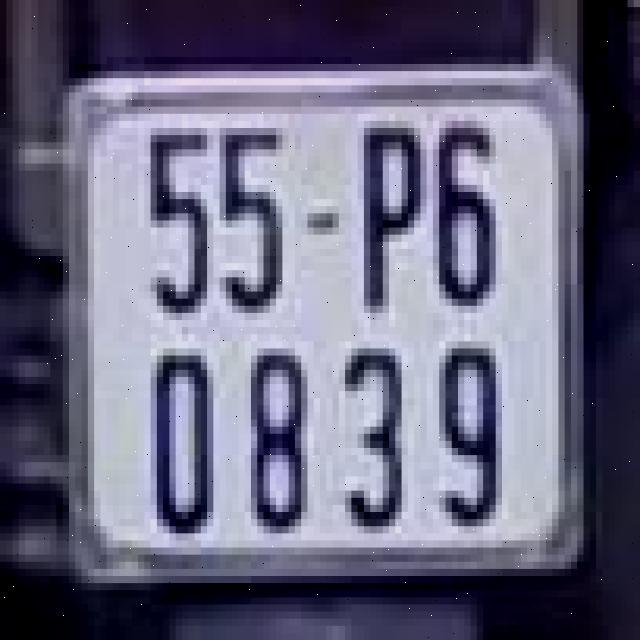0: (138, 338, 220, 537)
5: (132, 125, 213, 316), (223, 121, 292, 327)
6: (436, 100, 505, 320)
8: (232, 345, 314, 537), (336, 338, 411, 544)
9: (433, 338, 502, 530)
P: (351, 110, 427, 324)
